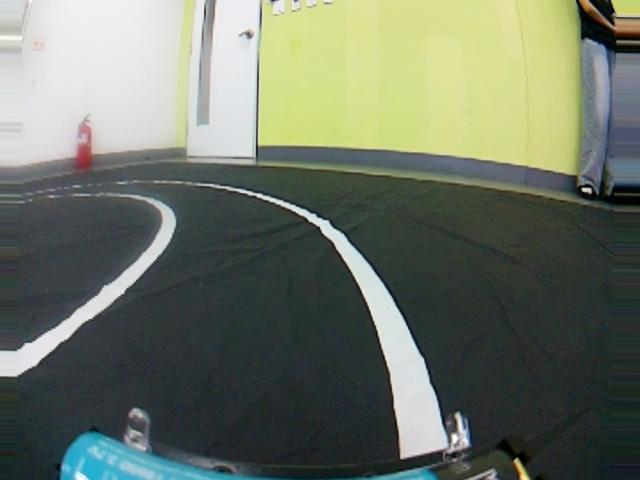left: (0, 170, 552, 479)
